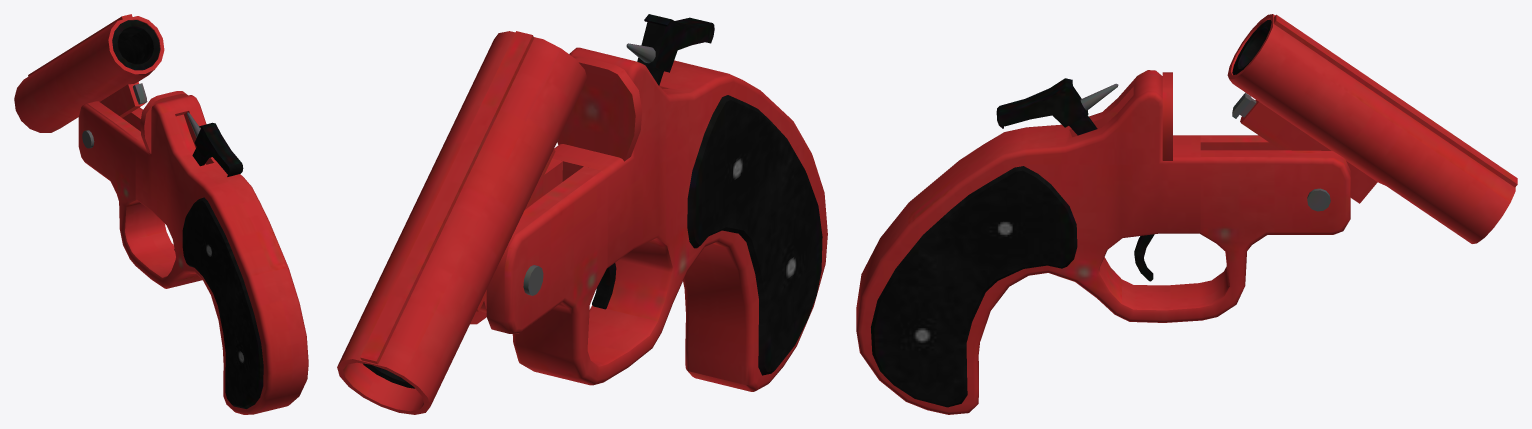
The model's file is g_flare.glb.
3 renders of one model, left to right at view 1: azimuth 30°, elevation 25°; view 2: azimuth 150°, elevation 25°; view 3: azimuth 270°, elevation 25°, orthographic. The views are drawn at different scales.
Parts seen in each view (by area): view 1: Body, Barrel, Hammer; view 2: Body, Barrel, Hammer, Trigger; view 3: Body, Barrel, Hammer.
Part boxes in pixels (left/top/right/bottom): Body: left=78, top=91, right=308, bottom=414; Barrel: left=14, top=14, right=164, bottom=148; Hammer: left=187, top=112, right=243, bottom=176; Body: left=470, top=47, right=827, bottom=391; Barrel: left=337, top=31, right=587, bottom=414; Hammer: left=626, top=14, right=714, bottom=85; Trigger: left=592, top=263, right=616, bottom=309; Body: left=856, top=70, right=1350, bottom=414; Barrel: left=1227, top=14, right=1517, bottom=243; Hammer: left=996, top=78, right=1118, bottom=135.
Bounding box in the file's own units: 0.0327 × 0.1768 × 0.2743.
Materials: 1 (1 with a texture image).
